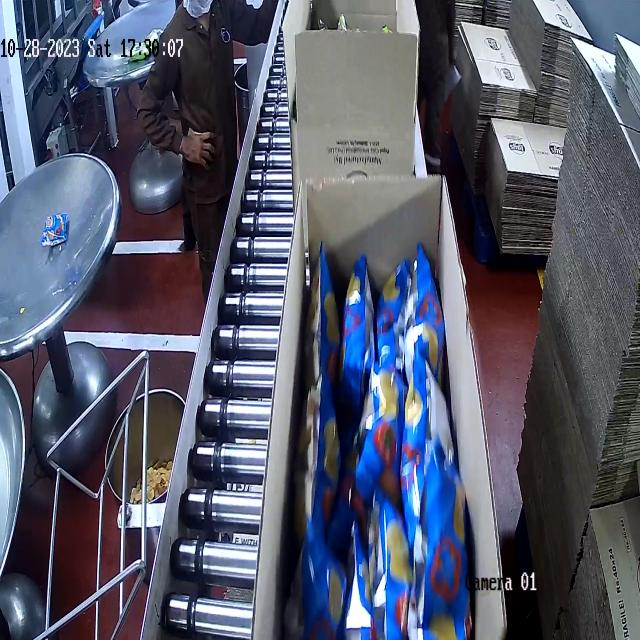PAPRIKA: (302, 258, 474, 634)
